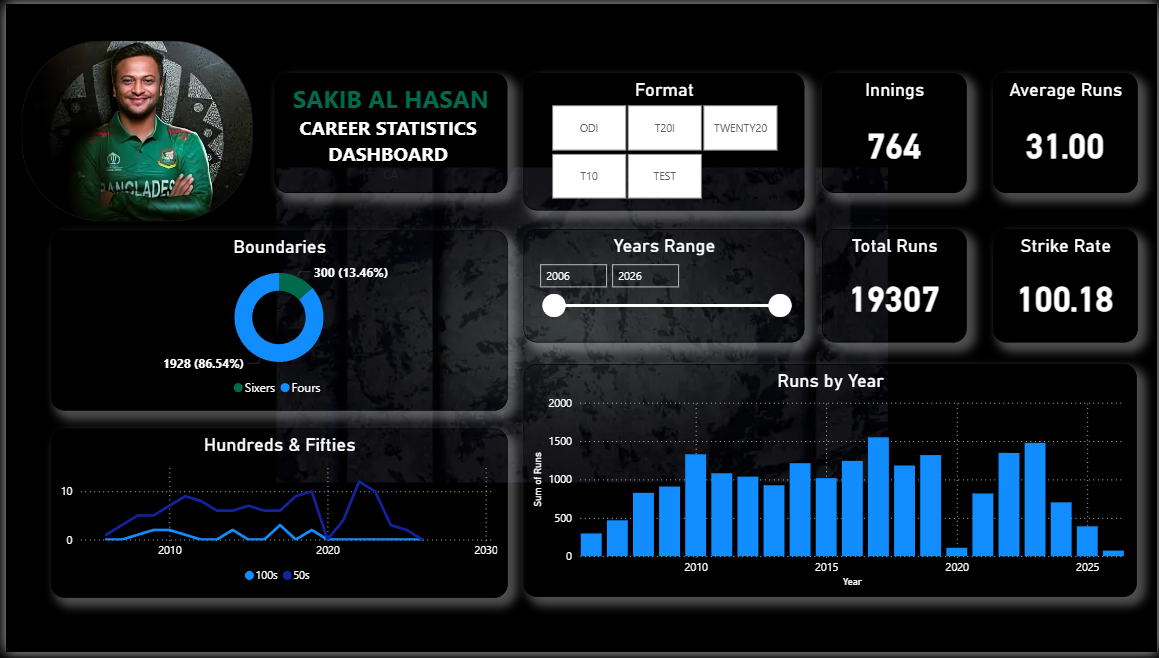

Layout of this report page (visuals, bound fields, positions):
{"tool":"powerbi","page":{"name":"Page 1","canvas":[1280,720],"ordinal":0},"visuals":[{"type":"image","box":[16.7,39.4,258.9,202.9],"z":0},{"type":"textbox","box":[298.3,77.2,258.9,133.3],"z":1000},{"type":"card","title":"Innings","fields":{"Values":["Sum(Sheet1.Innings)"]},"box":[906.7,77.2,160.5,133.3],"z":2000},{"type":"card","title":"Total Runs","fields":{"Values":["Sum(Sheet1.Runs)"]},"box":[907,250.8,160.5,125.7],"z":3000},{"type":"card","title":"Average Runs","fields":{"Values":["Avg(Sheet1.Avg)"]},"box":[1095.9,77.2,160.5,133.3],"z":4000},{"type":"card","title":"Strike Rate","fields":{"Values":["Avg(Sheet1.SR)"]},"box":[1096.3,250.8,160.5,125.7],"z":5000},{"type":"slicer","title":"Format","fields":{"Values":["Sheet1.Category"]},"box":[575.4,77.2,311.9,152.9],"z":6000},{"type":"slicer","title":"Years Range","fields":{"Values":["Sheet1.Year"]},"box":[575.4,250.8,311.9,125.7],"z":7000},{"type":"clusteredColumnChart","title":"Runs by Year","fields":{"Category":["Sheet1.Year"],"Y":["Sum(Sheet1.Runs)"]},"box":[575.4,399.8,681.4,258.9],"z":8000},{"type":"donutChart","title":"Boundaries","fields":{"Y":["Sum(Sheet1.6s)","Sum(Sheet1.4s)"]},"box":[50,251.4,507.3,199.9],"z":9000},{"type":"lineChart","title":"Hundreds & Fifties","fields":{"Category":["Sheet1.Year"],"Y":["Sum(Sheet1.100)","Sum(Sheet1.50)"]},"box":[50,470.9,507.3,187.8],"z":10000}]}

Visuals, with their boxes in screenshot pixels (x1, y1, x2, y2), scaled from the page's 1280x720 canvas onto the 1159x658 screenshot:
image: {"x1": 15, "y1": 36, "x2": 250, "y2": 221}
textbox: {"x1": 270, "y1": 71, "x2": 505, "y2": 192}
"Innings" card: {"x1": 821, "y1": 71, "x2": 966, "y2": 192}
"Total Runs" card: {"x1": 821, "y1": 229, "x2": 967, "y2": 344}
"Average Runs" card: {"x1": 992, "y1": 71, "x2": 1138, "y2": 192}
"Strike Rate" card: {"x1": 993, "y1": 229, "x2": 1138, "y2": 344}
"Format" slicer: {"x1": 521, "y1": 71, "x2": 803, "y2": 210}
"Years Range" slicer: {"x1": 521, "y1": 229, "x2": 803, "y2": 344}
"Runs by Year" clusteredColumnChart: {"x1": 521, "y1": 365, "x2": 1138, "y2": 602}
"Boundaries" donutChart: {"x1": 45, "y1": 230, "x2": 505, "y2": 412}
"Hundreds & Fifties" lineChart: {"x1": 45, "y1": 430, "x2": 505, "y2": 602}
